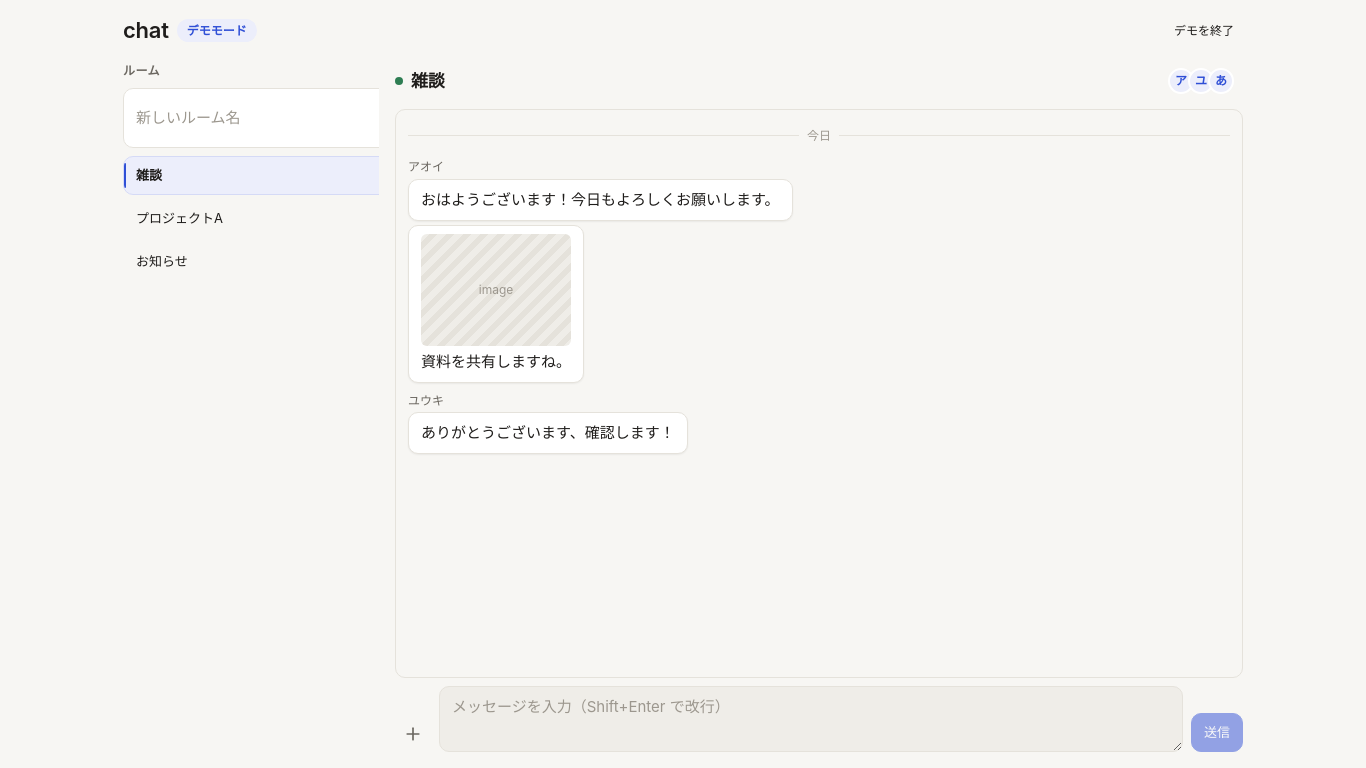
Test case: メンバー一覧を開いて役割を表示する
Click the button named "メンバー": (1203, 81) [1163, 63, 1243, 99]
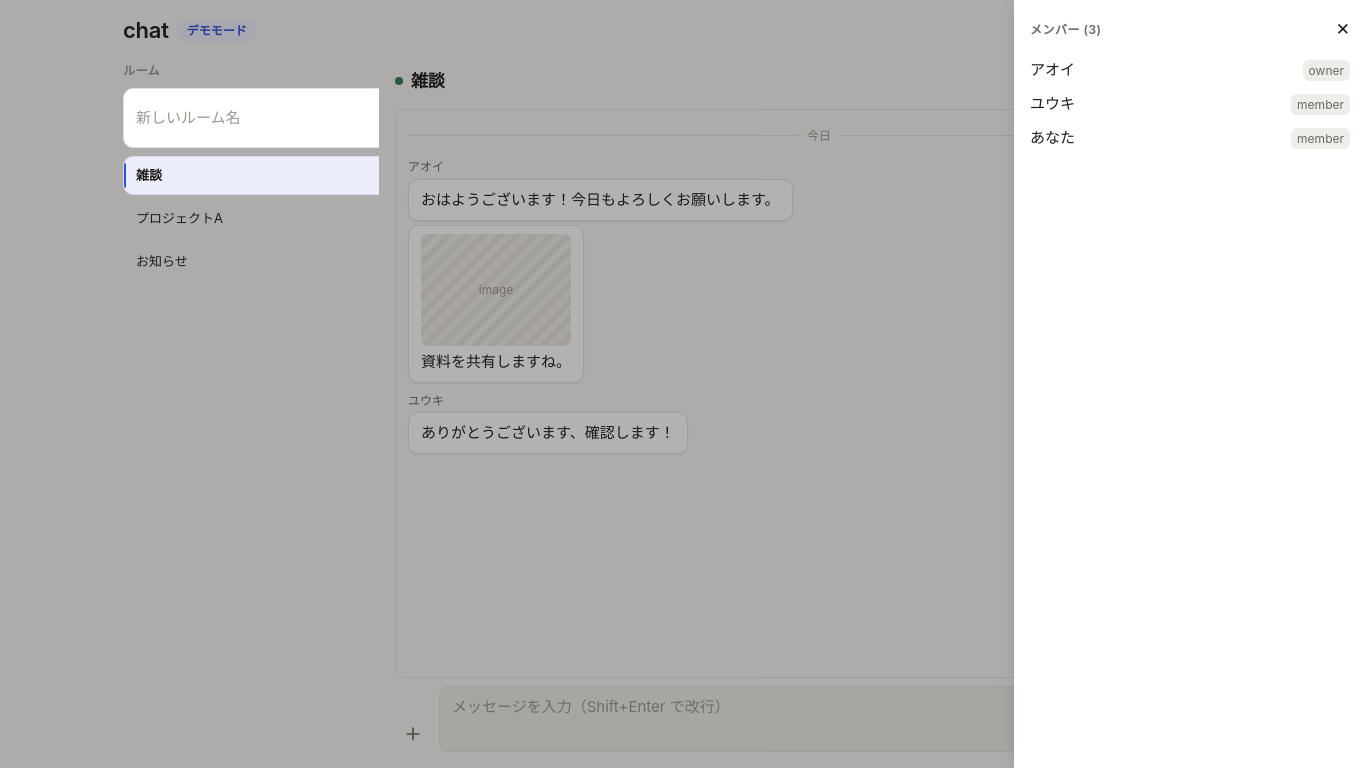
Expected: the dialog named "メンバー一覧" is shown, [1014, 0, 1365, 767]
Expected: the text "owner" is shown, [1303, 60, 1350, 81]
Expected: the text "member" is shown 2 times, [1291, 94, 1350, 115]; [1291, 128, 1350, 149]
